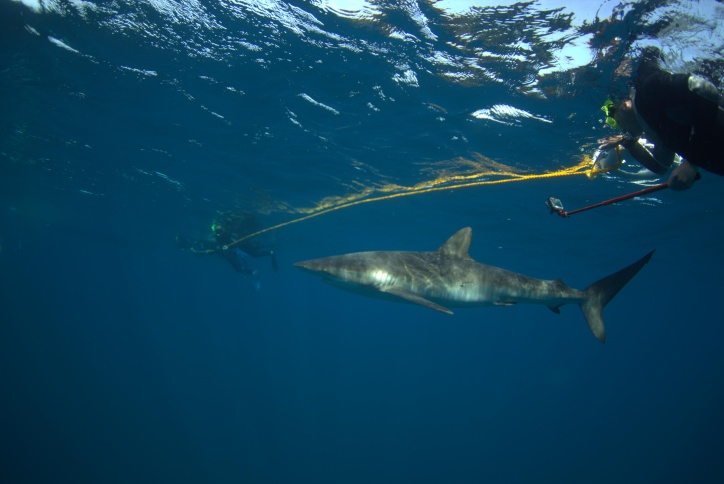Sedoso: (269, 217, 659, 357)
